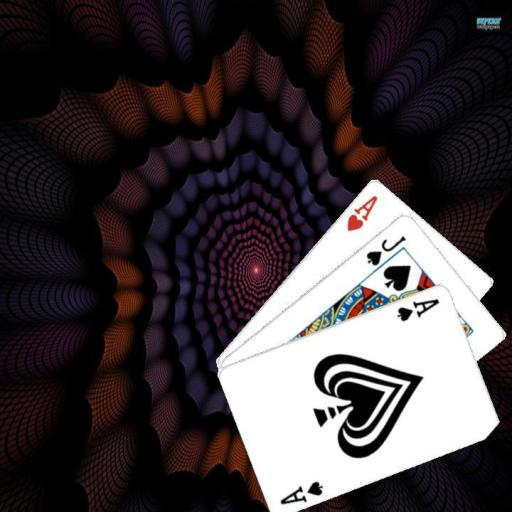AH: (343, 192, 379, 233)
AS: (277, 477, 325, 506), (394, 295, 441, 323)
JS: (363, 232, 408, 267)
